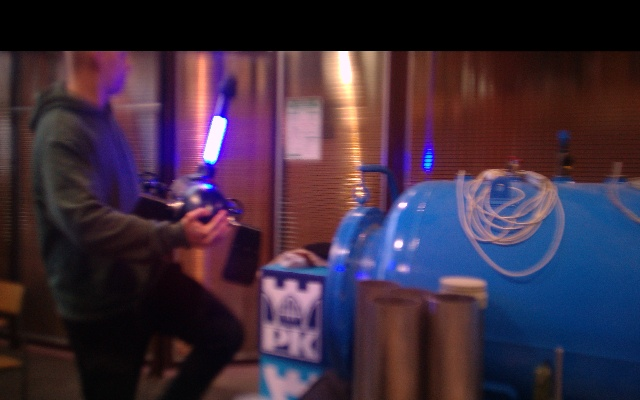blue: (203, 116, 227, 164)
